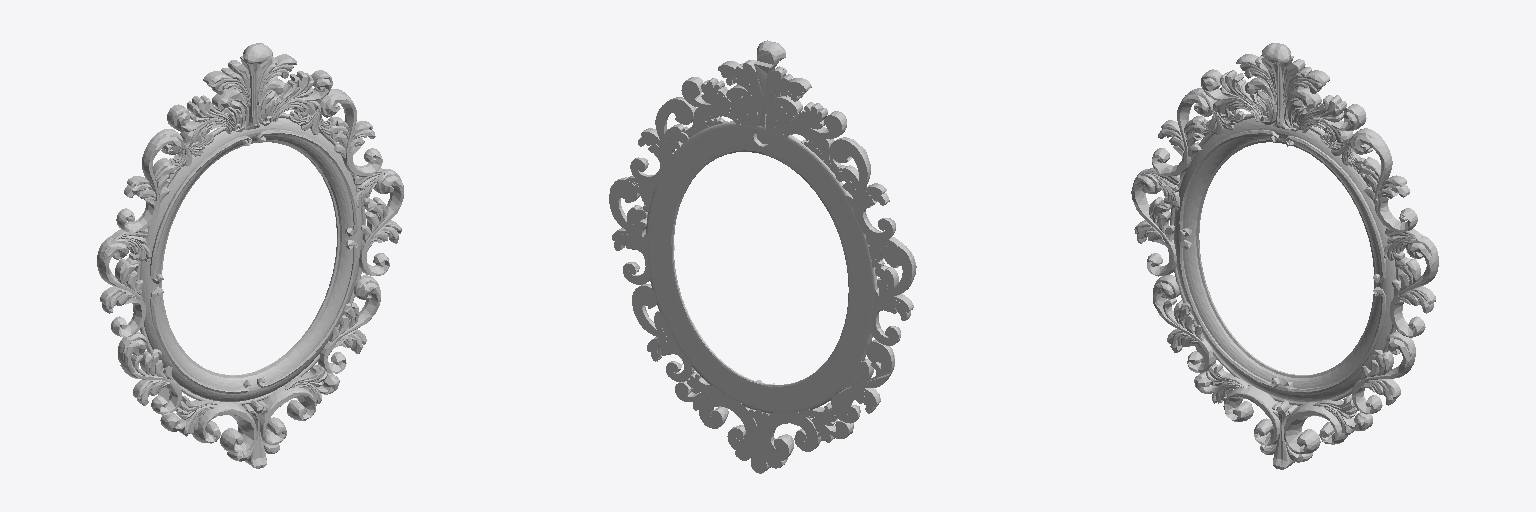
File: framebaroque32k.obj
3 renders of one model, left to right at view 1: azimuth 30°, elevation 25°; view 2: azimuth 150°, elevation 25°; view 3: azimuth 330°, elevation 25°, orthographic.
Size of the model in its own units: 162 by 217 by 13.85.